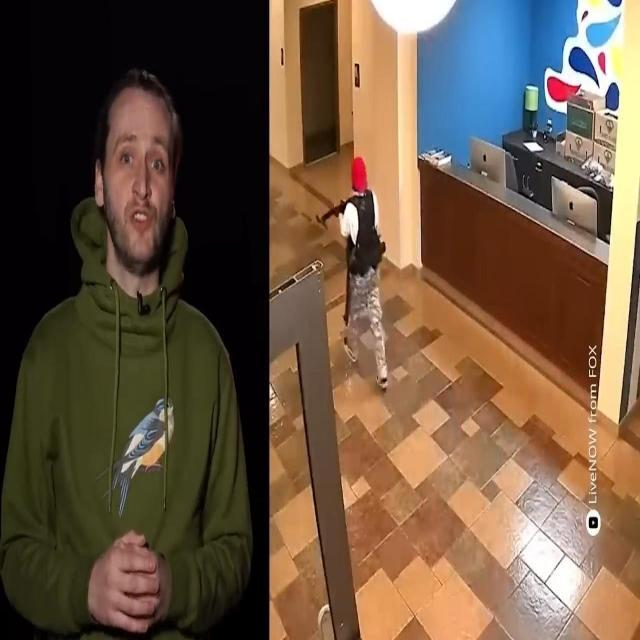pistol: (341, 242, 358, 350), (318, 192, 359, 226)
